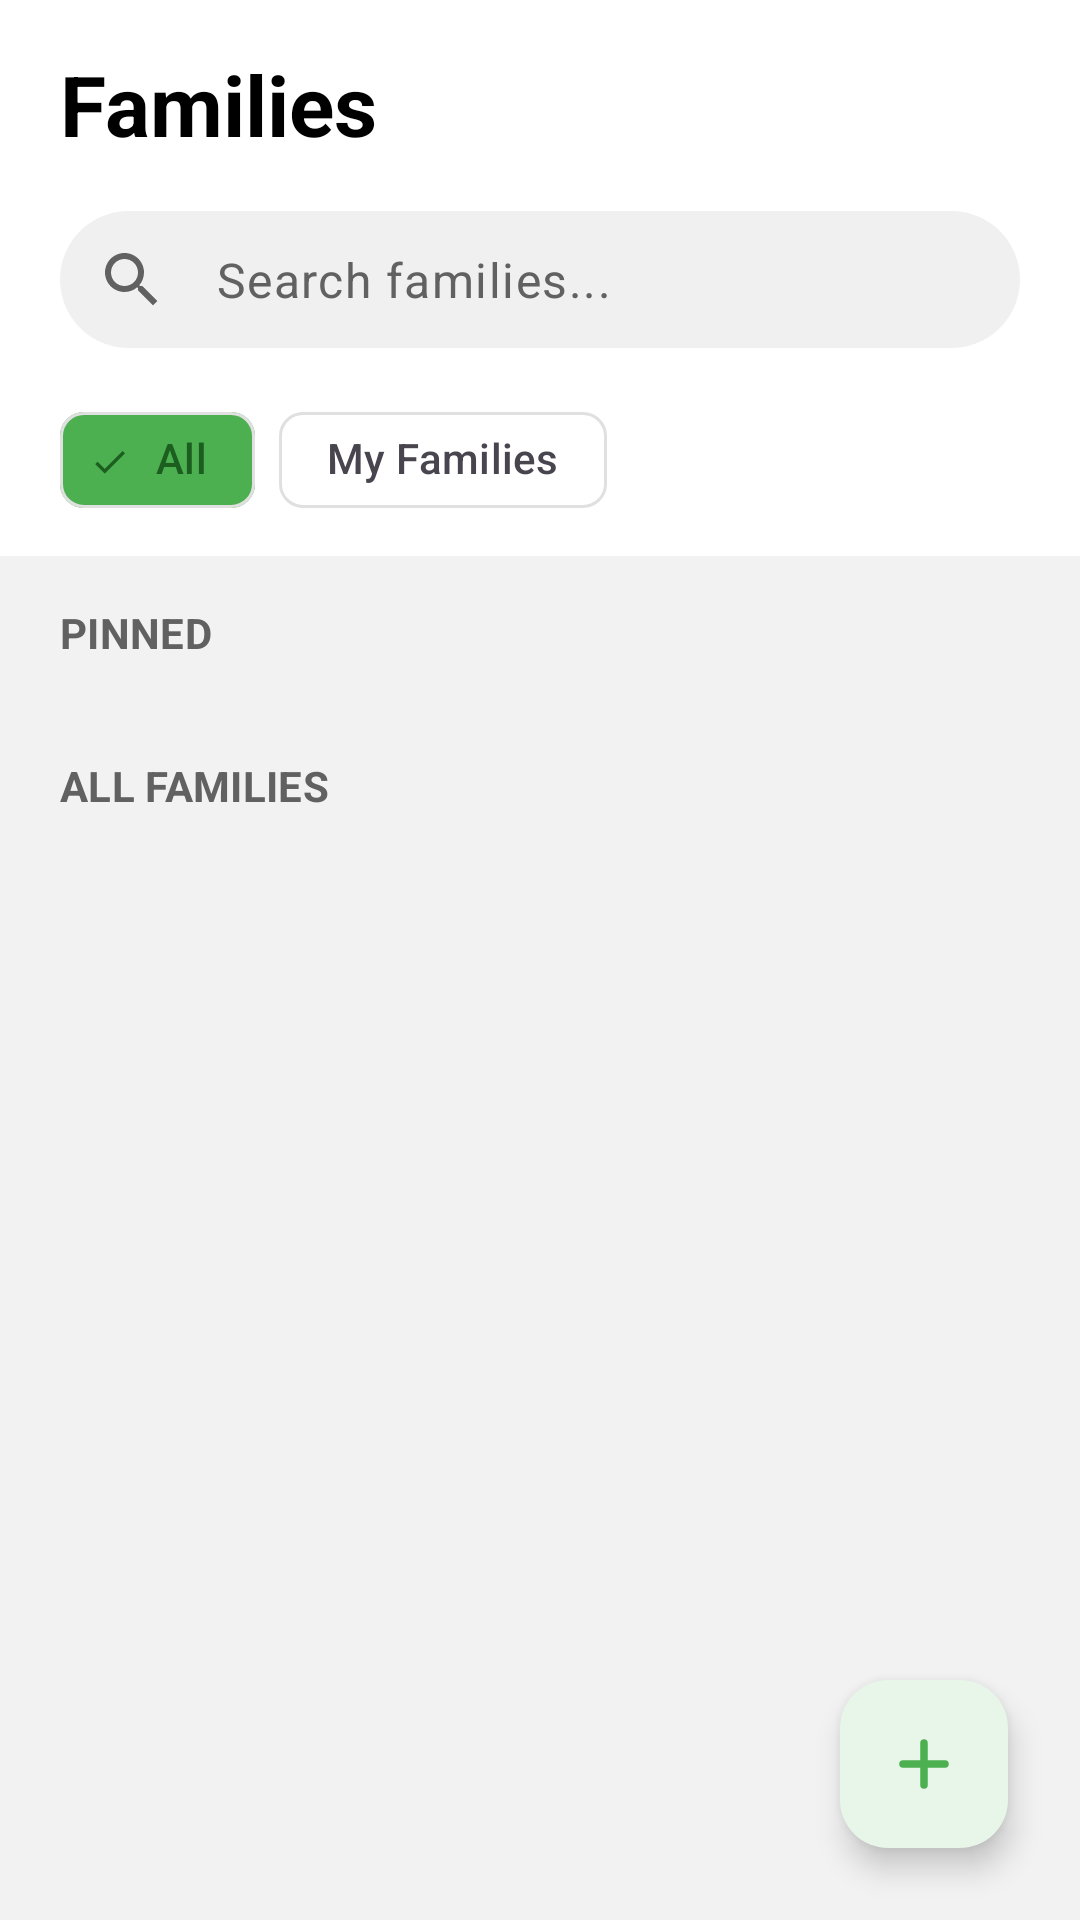

Icon click points for this 1080 × 1920 phone screenshot, format [x,y]:
Add Family: [924,1764]
